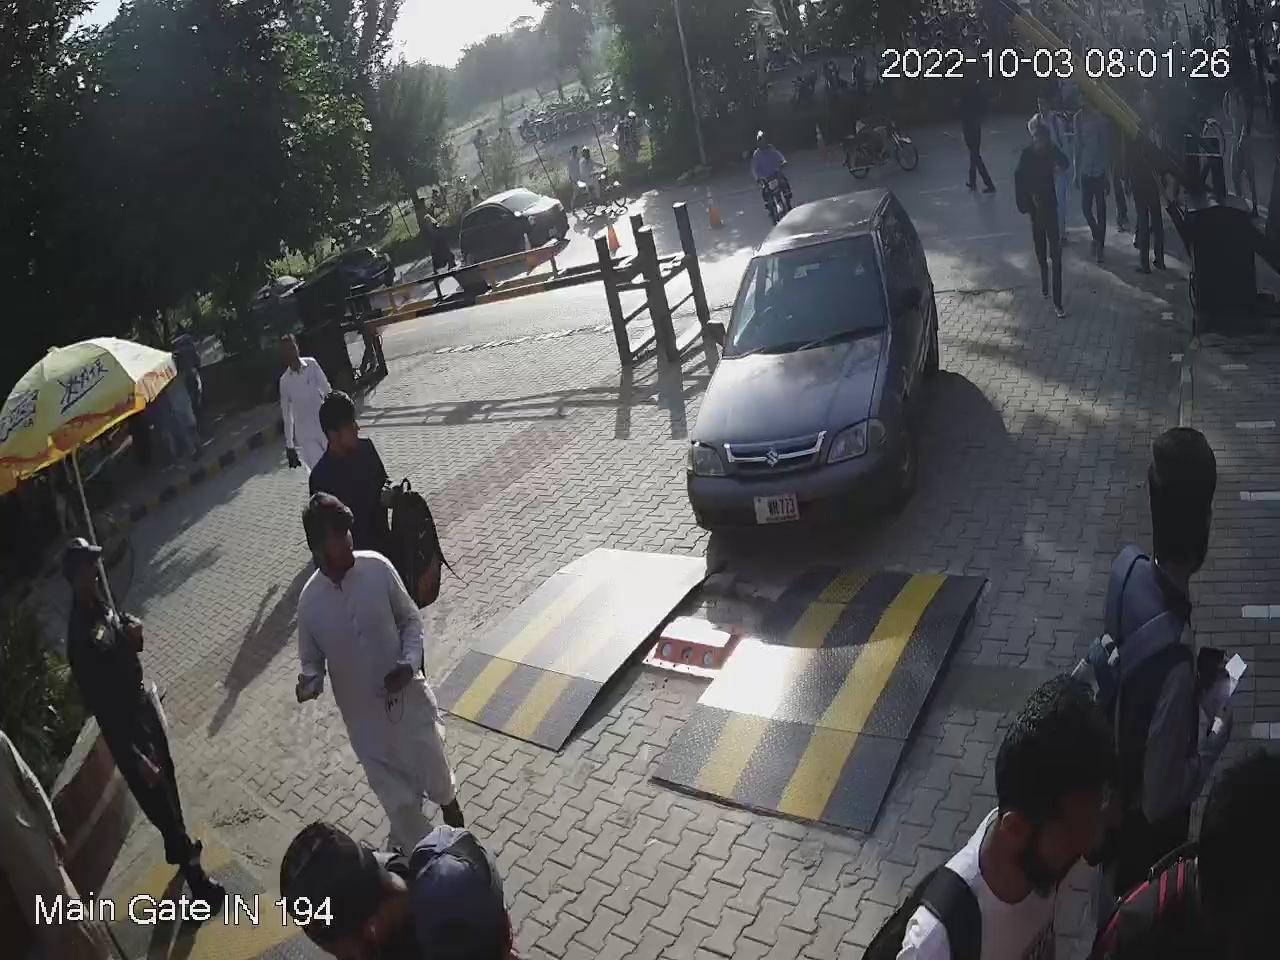windshield: (721, 213, 890, 362)
